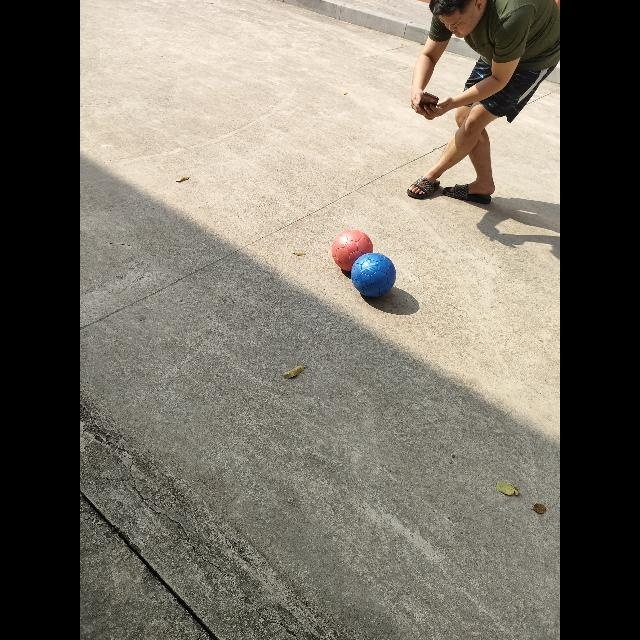B: (351, 252, 396, 297)
R: (331, 229, 374, 272)
